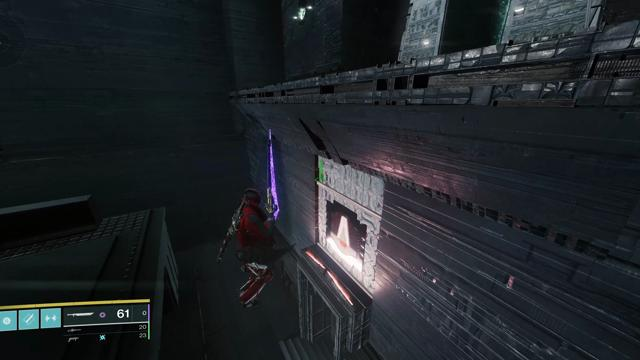enter: (328, 209, 359, 258)
